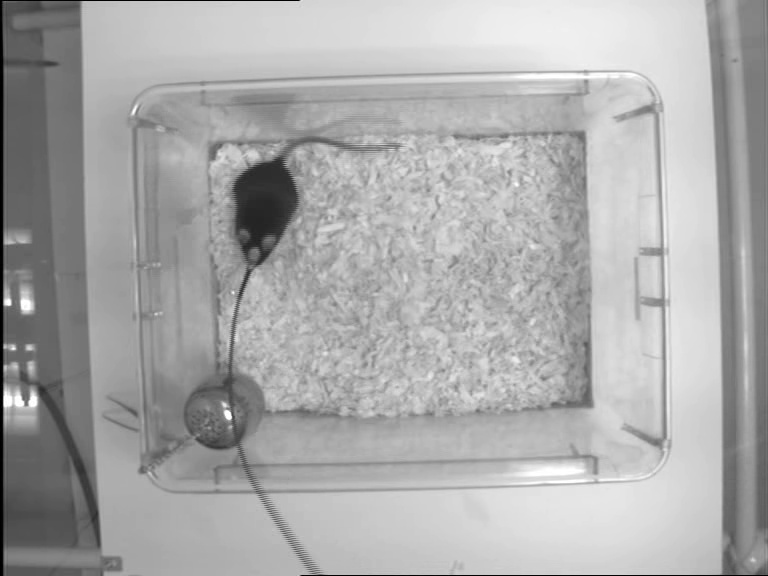mice: (233, 134, 408, 269)
